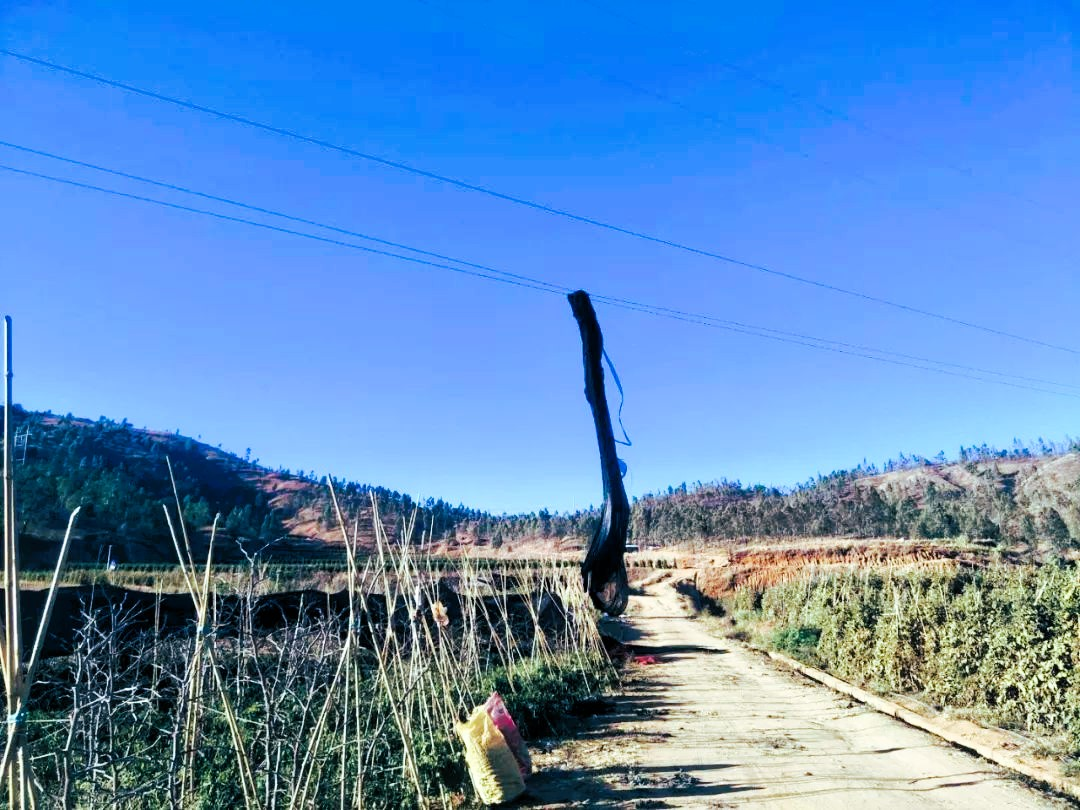wire foreign body: (545, 278, 650, 588)
